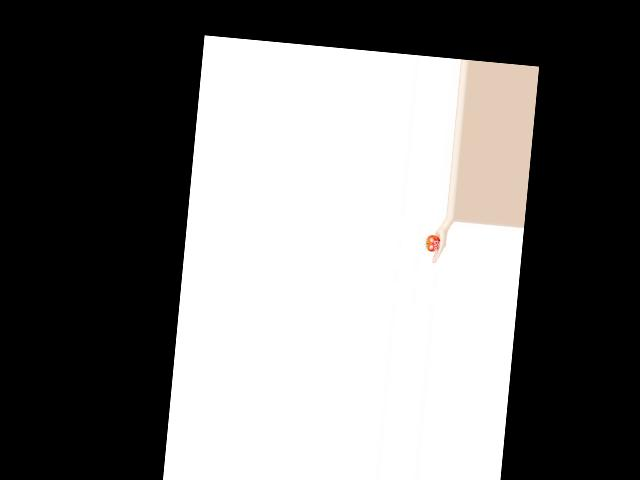tomato: (425, 234, 440, 252)
